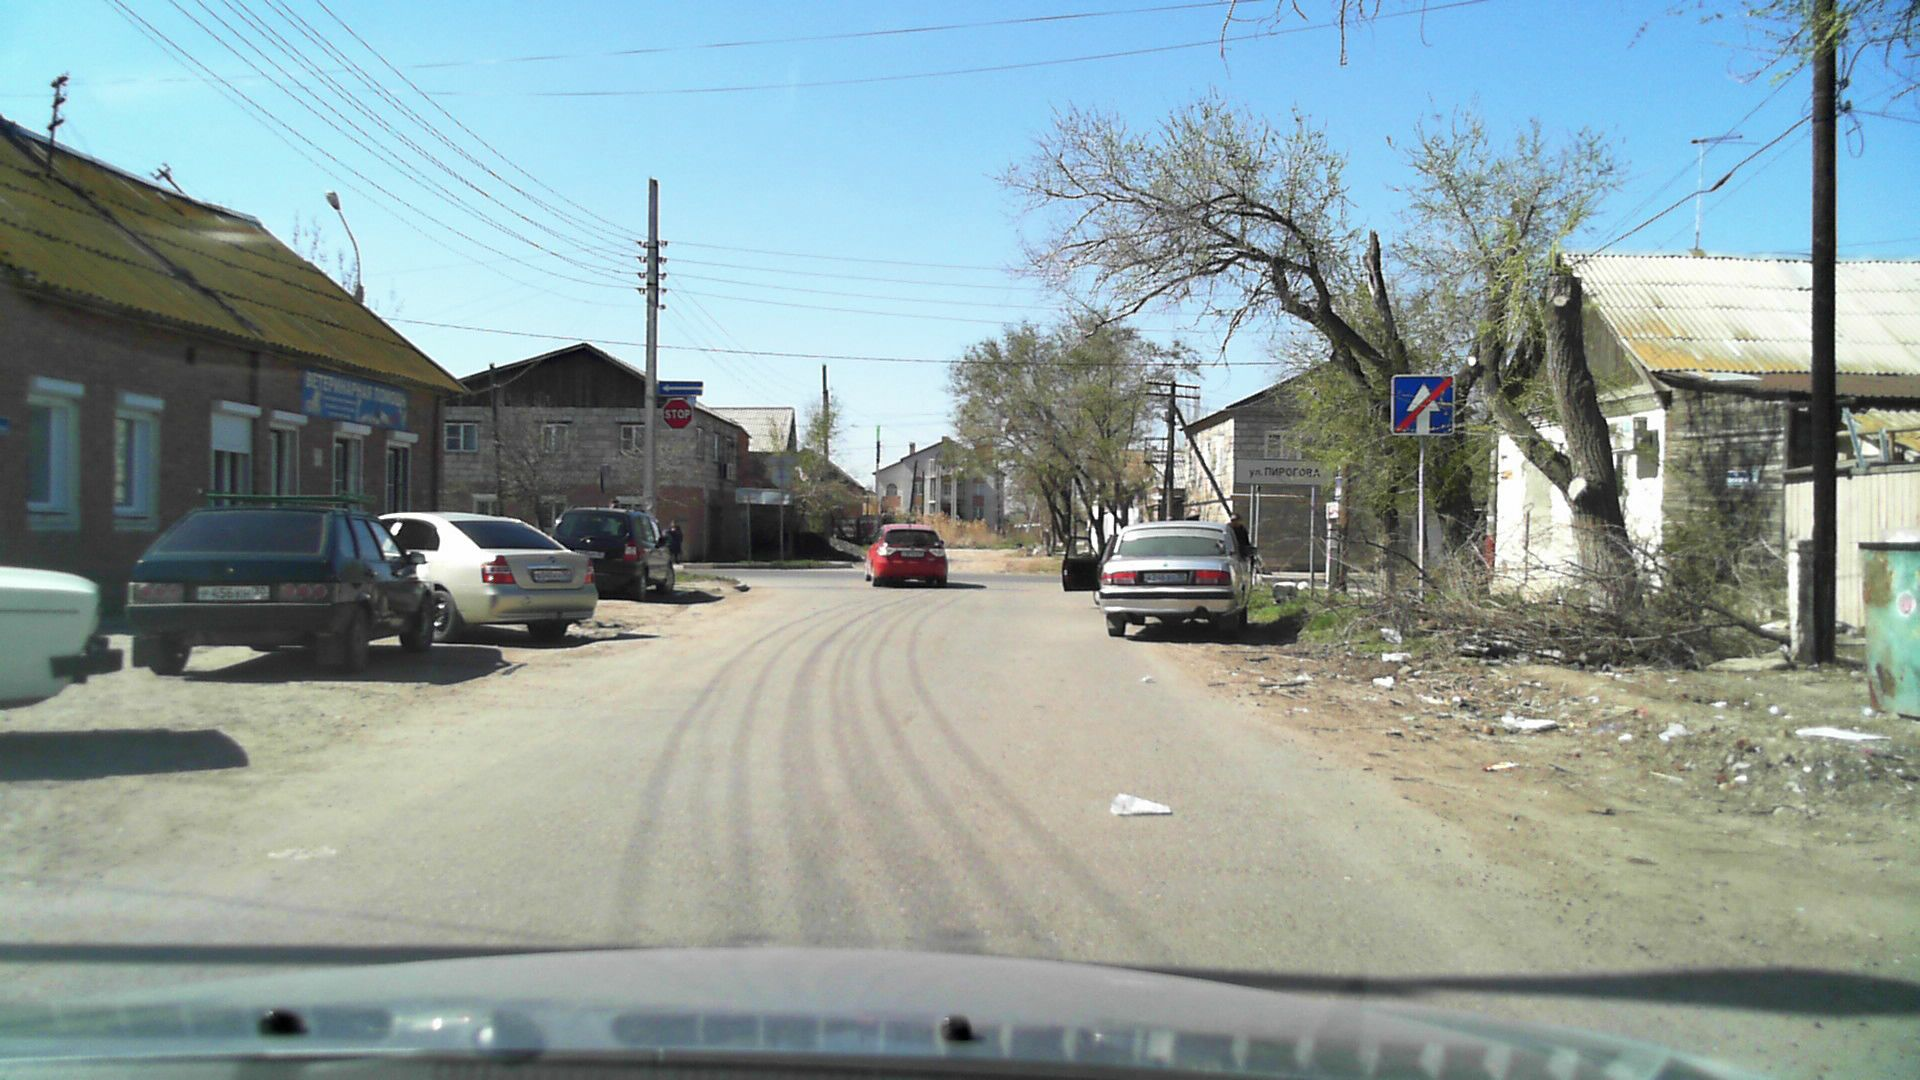One-Way Traffic: (658, 381, 703, 396)
